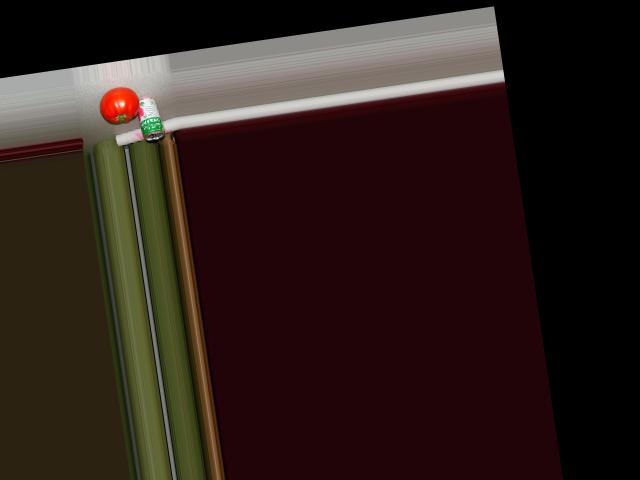tomato: (97, 84, 140, 124)
